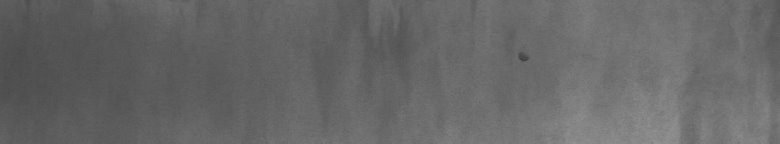fi: (516, 48, 530, 67)
